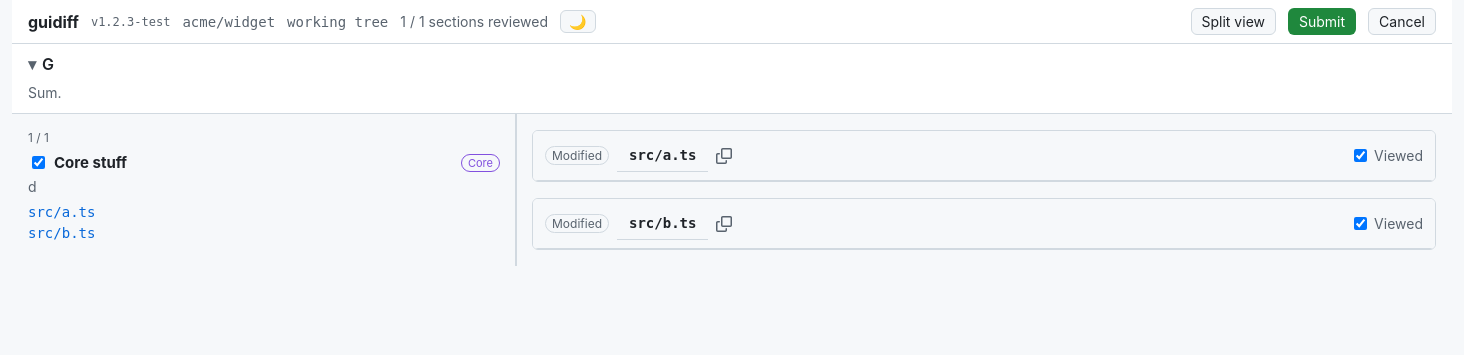
App › unchecking a section marks all of its files unviewed
Expected: the element with id "section-core" is shown, [12,114,1452,266]
Click the 1st checkbox.
click(38, 162)  # box [32,156,45,169]
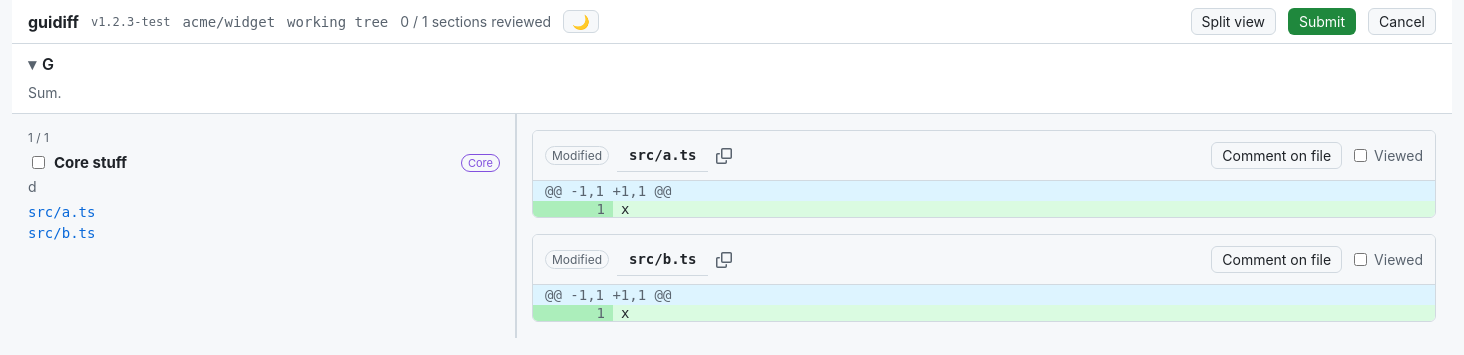
Expected: the 1st checkbox labelled "Viewed" is not checked, [1354,149,1367,162]
Expected: the 2nd checkbox labelled "Viewed" is not checked, [1354,253,1367,266]
Expected: the text "0 / 1 sections reviewed" is shown, [400,13,551,30]
